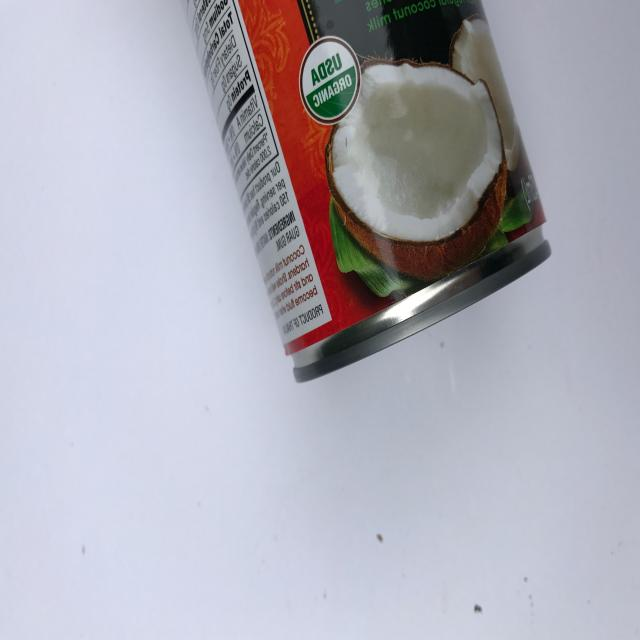metal: (146, 0, 561, 401)
